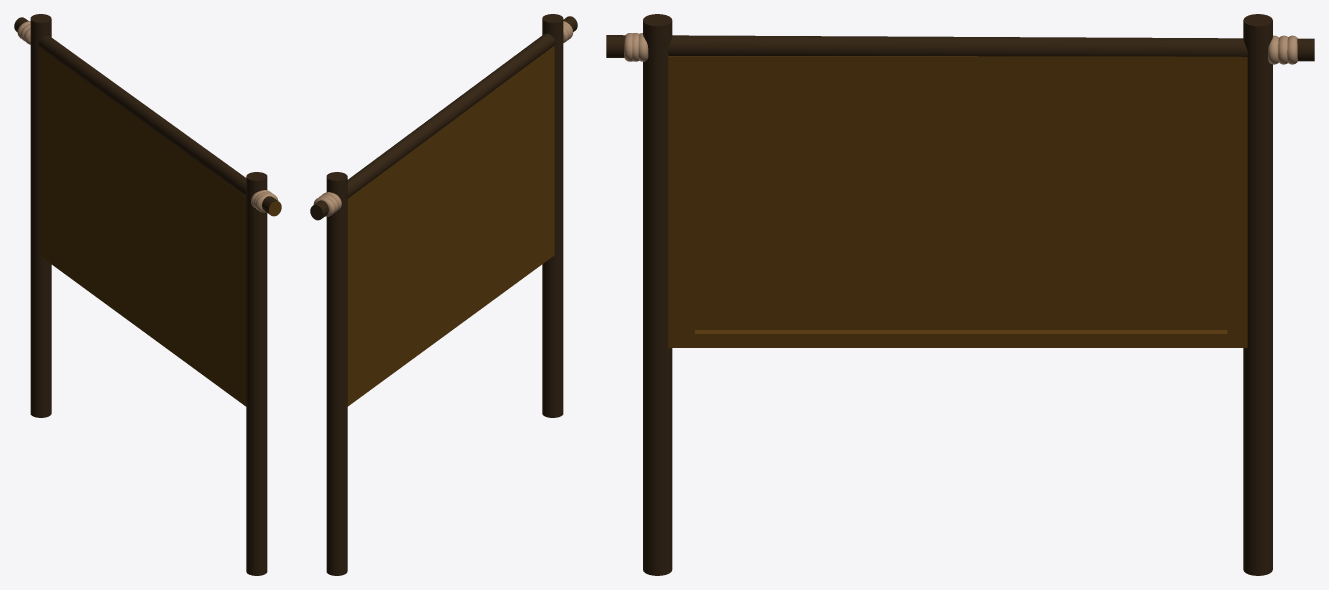
File: Panneau proto.fbx
The picture shows the model from 3 angles, left to right: view 1: azimuth 30°, elevation 25°; view 2: azimuth 150°, elevation 25°; view 3: azimuth 270°, elevation 25°; orthographic projection. The views are drawn at different scales.
Visible parts, largest first — view 1: pTorus7; view 2: pTorus7; view 3: pTorus7.
Boxes of the visible parts, box(x1,y1,x2,y2) form: pTorus7: box(14, 14, 281, 575); pTorus7: box(310, 14, 577, 575); pTorus7: box(606, 14, 1314, 575).
Bounding box in the file's own units: 0.1047 × 1.86 × 2.17.
